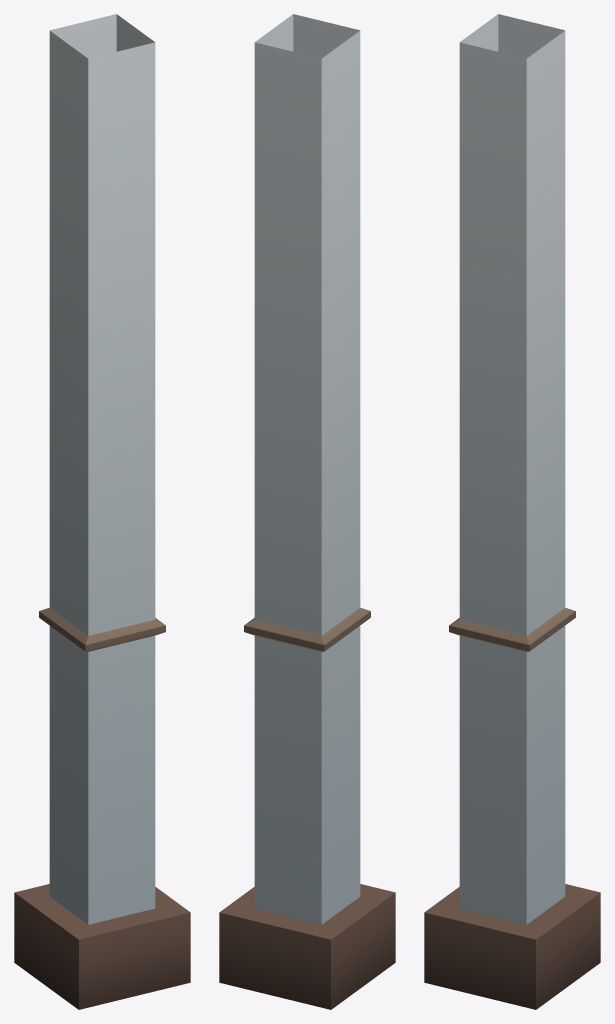
Rendered from Pillar_trim.fbx.
3 views of the same model, side by side, from view 1: azimuth 30°, elevation 25°; view 2: azimuth 150°, elevation 25°; view 3: azimuth 330°, elevation 25° (orthographic).
Parts seen in each view (by area): view 1: Pillar_trim; view 2: Pillar_trim; view 3: Pillar_trim.
Boxes of the visible parts, <box> form: Pillar_trim: <box>14,14,190,1009</box>; Pillar_trim: <box>219,14,395,1009</box>; Pillar_trim: <box>424,14,600,1009</box>.
Bounding box in the file's own units: 37.5 × 300 × 37.5.
